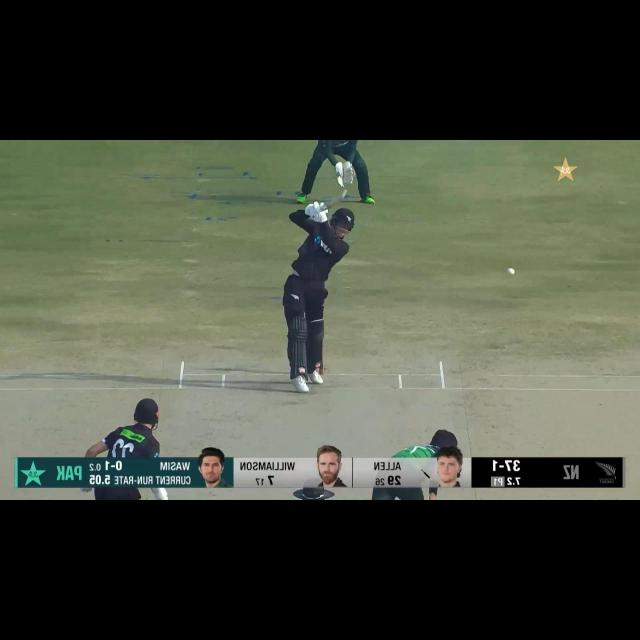bat: (321, 188, 349, 209)
toe: (342, 188, 348, 199)
